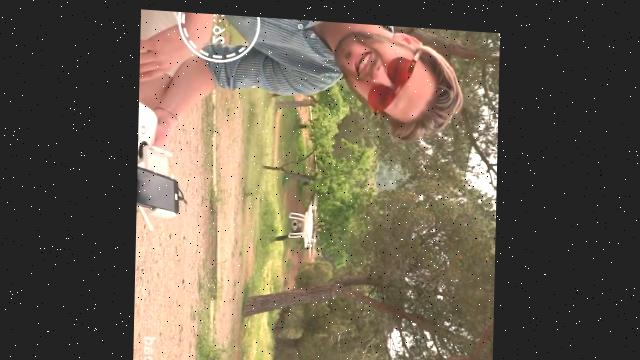drone: (284, 184, 321, 260)
